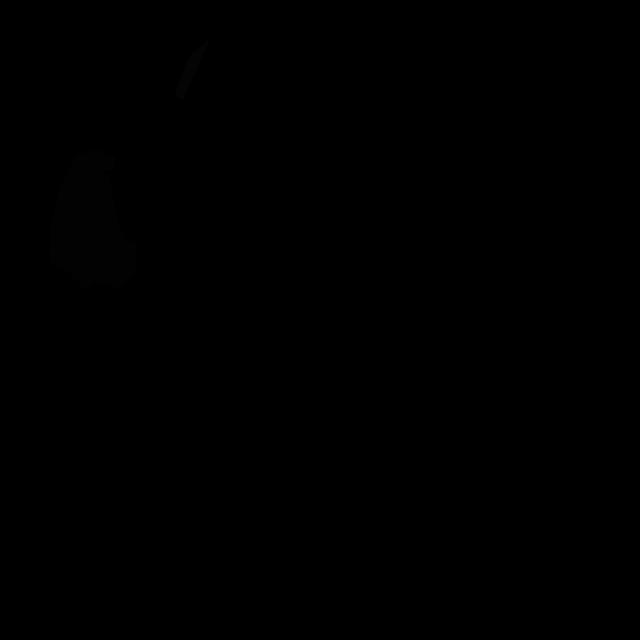cardboard: (49, 148, 136, 291)
soft_plastic: (174, 38, 211, 100)
